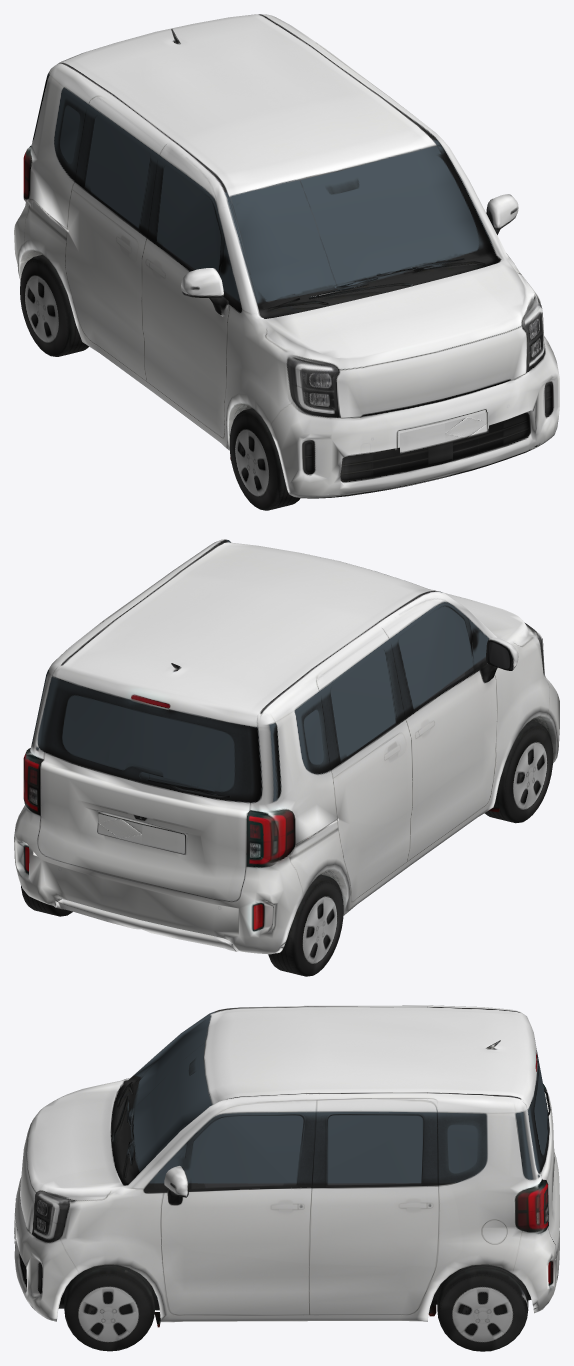
3 renders of one model, top to bottom at view 1: azimuth 30°, elevation 25°; view 2: azimuth 150°, elevation 25°; view 3: azimuth 270°, elevation 25°, orthographic. The views are drawn at different scales.
Visible parts, largest first — view 1: tripo_node_c7bd52c8-4662-4a28-b545-ef983f02e31b; view 2: tripo_node_c7bd52c8-4662-4a28-b545-ef983f02e31b; view 3: tripo_node_c7bd52c8-4662-4a28-b545-ef983f02e31b.
Boxes of the visible parts, x1,y1,x2,y2 form: tripo_node_c7bd52c8-4662-4a28-b545-ef983f02e31b: (14, 14, 559, 510); tripo_node_c7bd52c8-4662-4a28-b545-ef983f02e31b: (14, 539, 559, 976); tripo_node_c7bd52c8-4662-4a28-b545-ef983f02e31b: (14, 1005, 559, 1351).
Bounding box in the file's own units: 0.6274 × 0.5112 × 0.9995.
1 material, 1 textured.
